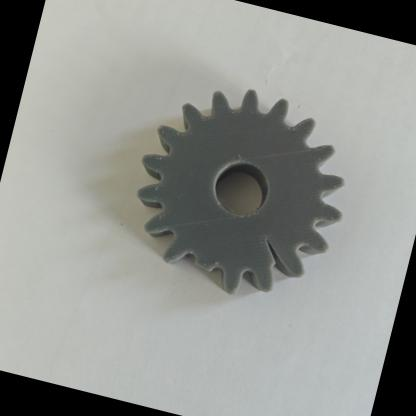defect: (241, 222, 318, 303), (162, 231, 232, 291)
gear: (92, 58, 374, 336)
